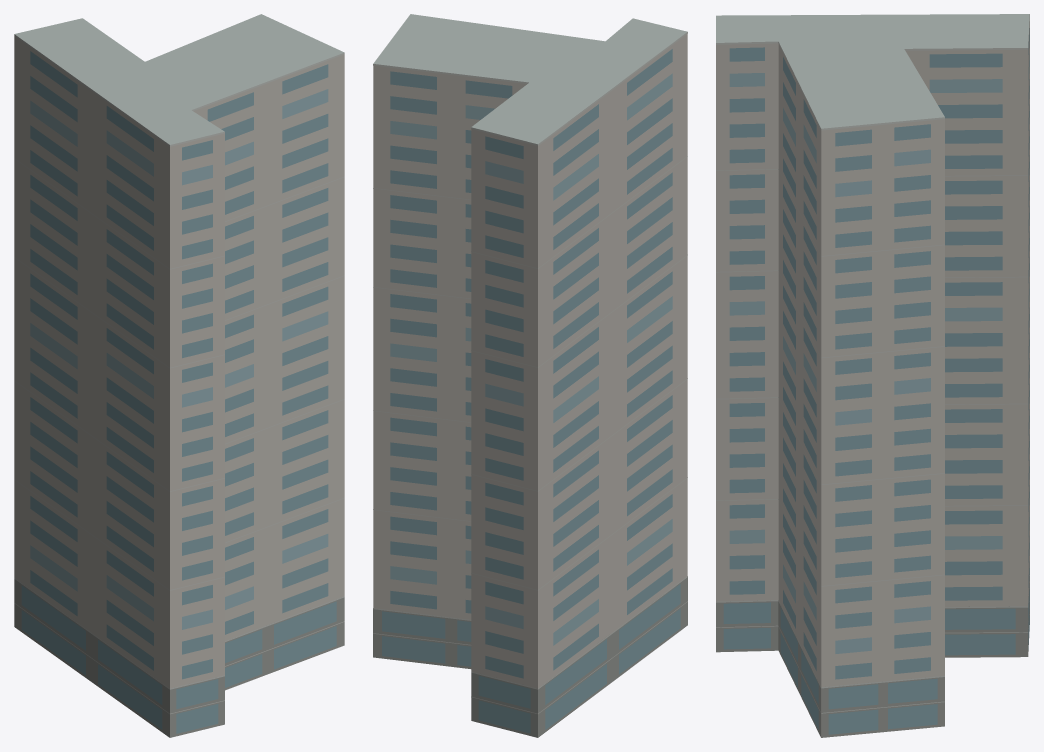
Rendered from residential-57e98d45-53b0-448a-a305-99db416fadda.glb.
3 renders of one model, left to right at view 1: azimuth 30°, elevation 25°; view 2: azimuth 150°, elevation 25°; view 3: azimuth 270°, elevation 25°, orthographic. The views are drawn at different scales.
Parts seen in each view (by area): view 1: residential-57e98d45-53b0-448a-a305-99db416fadda.tmp; view 2: residential-57e98d45-53b0-448a-a305-99db416fadda.tmp; view 3: residential-57e98d45-53b0-448a-a305-99db416fadda.tmp.
Boxes of the visible parts, x1,y1,x2,y2 form: residential-57e98d45-53b0-448a-a305-99db416fadda.tmp: (14,14,344,737); residential-57e98d45-53b0-448a-a305-99db416fadda.tmp: (373,14,687,737); residential-57e98d45-53b0-448a-a305-99db416fadda.tmp: (716,14,1029,737).
Bounding box in the file's own units: 32.34 × 80 × 37.36.
